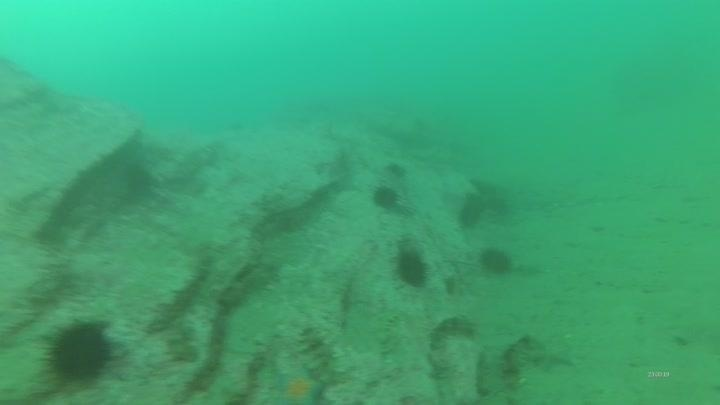echinus: (40, 316, 118, 387), (392, 246, 431, 290), (118, 160, 157, 200), (477, 245, 515, 278), (455, 194, 487, 230), (370, 183, 402, 212), (383, 159, 409, 181)
holothurian: (296, 324, 344, 385)
starfish: (269, 364, 327, 405), (527, 339, 578, 374)
